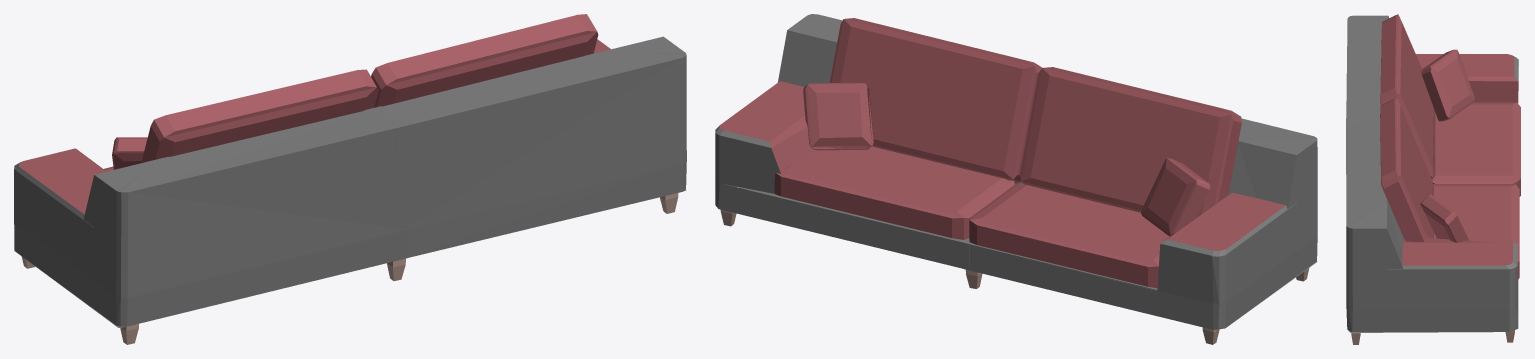
The model's file is couch1.fbx.
The picture shows the model from 3 angles, left to right: view 1: azimuth 30°, elevation 25°; view 2: azimuth 150°, elevation 25°; view 3: azimuth 270°, elevation 25°; orthographic projection. The views are drawn at different scales.
Visible parts, largest first — view 1: model; view 2: model; view 3: model.
Part boxes in pixels (bbox=[...]): model: bbox=[14, 14, 686, 344]; model: bbox=[715, 14, 1317, 344]; model: bbox=[1346, 14, 1520, 344].
Bounding box in the file's own units: 9.41 × 3.08 × 3.26.
